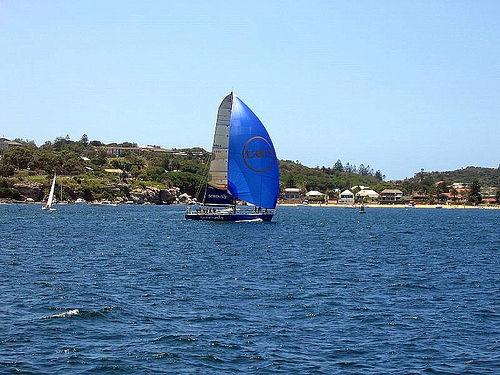Ship: (184, 92, 281, 225), (42, 173, 58, 211)
